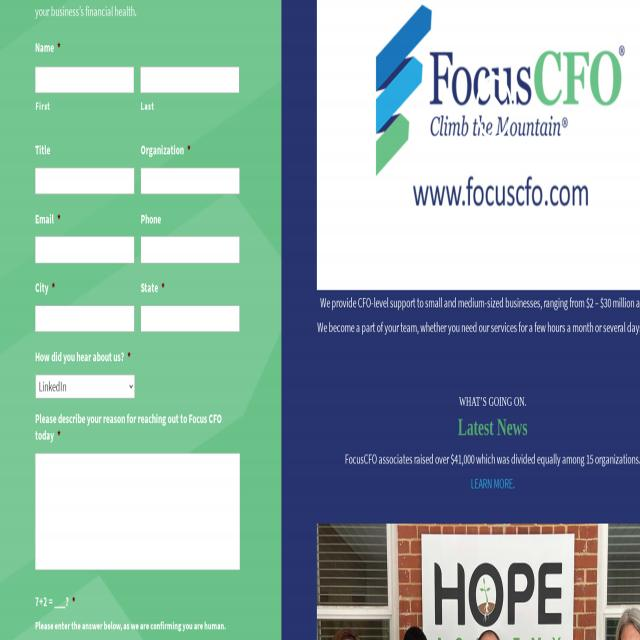button: (317, 0, 640, 289), (317, 523, 640, 640)
field: (36, 453, 240, 570), (140, 168, 240, 194), (140, 237, 240, 263), (140, 306, 240, 332), (140, 66, 240, 92), (36, 168, 134, 194), (36, 237, 134, 263), (36, 306, 134, 332), (36, 66, 134, 92), (36, 375, 134, 398)
